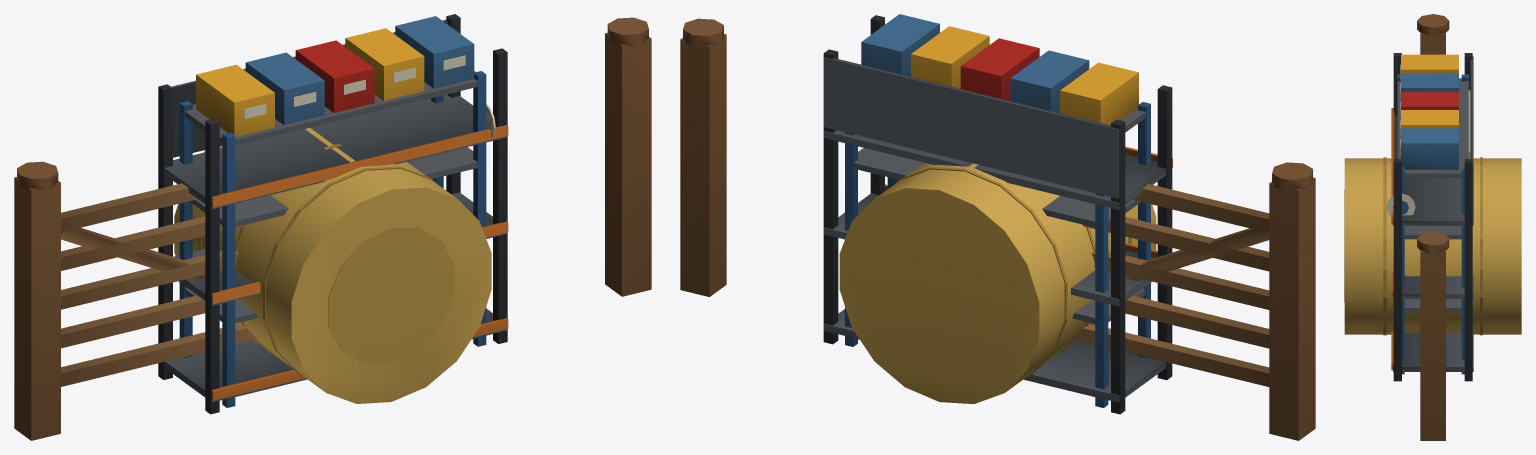
Rendered from level3.glb.
3 renders of one model, left to right at view 1: azimuth 30°, elevation 25°; view 2: azimuth 150°, elevation 25°; view 3: azimuth 270°, elevation 25°, orthographic. The views are drawn at different scales.
Visible parts, largest first — view 1: l3_hay_bale_mesh, l3_field_gate_mesh, l3_tool_rack_mesh, l3_parts_shelf_mesh; view 2: l3_hay_bale_mesh, l3_tool_rack_mesh, l3_field_gate_mesh, l3_parts_shelf_mesh; view 3: l3_hay_bale_mesh, l3_parts_shelf_mesh, l3_tool_rack_mesh, l3_field_gate_mesh.
Boxes of the visible parts, <box> form: l3_hay_bale_mesh: <box>174,128,491,403</box>; l3_field_gate_mesh: <box>14,17,651,440</box>; l3_tool_rack_mesh: <box>158,14,508,414</box>; l3_parts_shelf_mesh: <box>179,16,495,407</box>; l3_hay_bale_mesh: <box>839,162,1156,403</box>; l3_tool_rack_mesh: <box>823,15,1172,414</box>; l3_field_gate_mesh: <box>680,18,1315,440</box>; l3_parts_shelf_mesh: <box>845,14,1150,407</box>; l3_hay_bale_mesh: <box>1344,157,1521,335</box>; l3_parts_shelf_mesh: <box>1386,54,1468,374</box>; l3_tool_rack_mesh: <box>1391,53,1473,381</box>; l3_field_gate_mesh: <box>1417,14,1449,440</box>.
Bounding box in the file's own units: 3.4 × 1.57 × 1.1.
